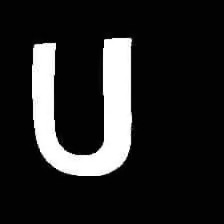LTR_U: (23, 30, 140, 178)
